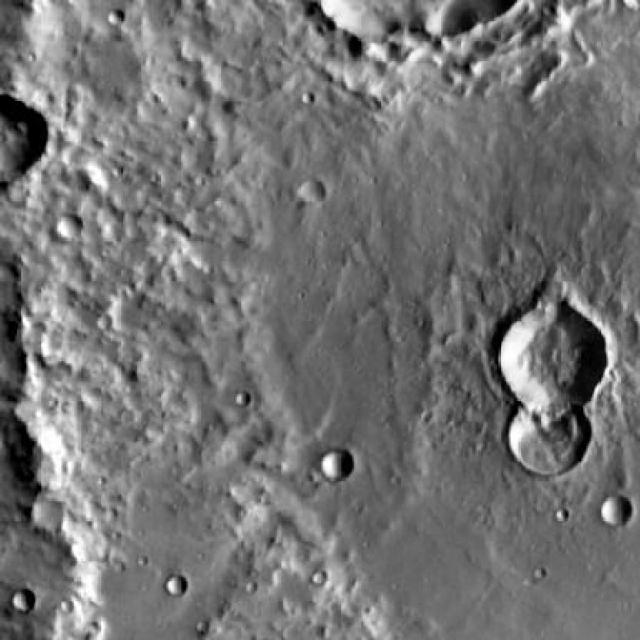crater: (493, 301, 604, 408), (502, 391, 587, 474), (322, 446, 356, 480), (294, 178, 324, 208), (602, 494, 632, 523), (55, 214, 79, 238), (12, 586, 36, 608), (165, 576, 187, 596), (109, 9, 125, 25)
